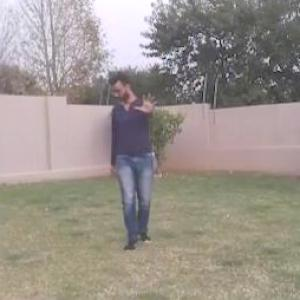follow_hand: (131, 86, 164, 116)
